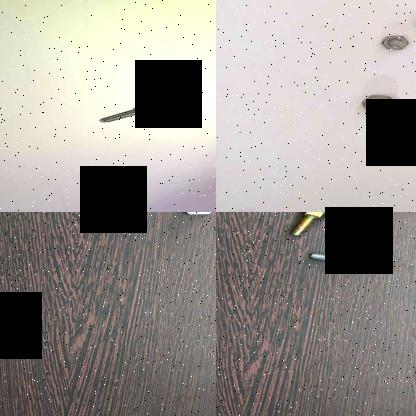Bolts: (95, 103, 155, 129), (281, 212, 331, 237), (302, 249, 356, 269), (167, 212, 216, 220)
NUTS: (360, 95, 400, 121), (379, 34, 411, 50)
